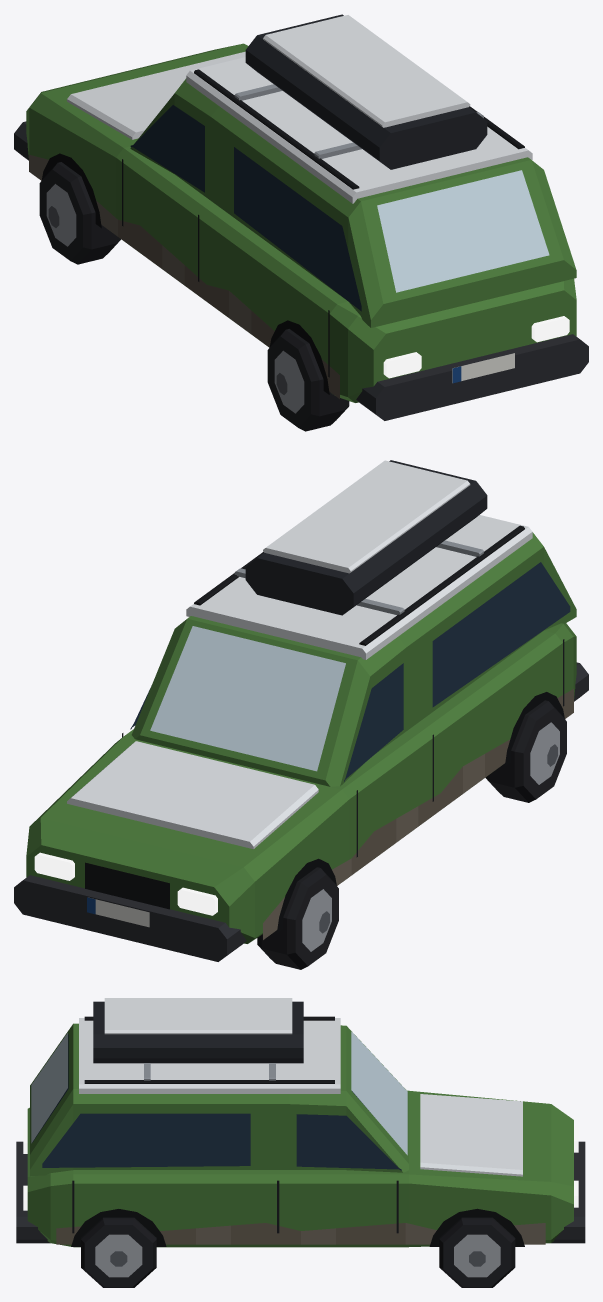
The model's file is estate_lo.glb.
3 renders of one model, top to bottom at view 1: azimuth 30°, elevation 25°; view 2: azimuth 150°, elevation 25°; view 3: azimuth 270°, elevation 25°, orthographic. The views are drawn at different scales.
Visible parts, largest first — view 1: body.003, wheel_RL.003, wheel_FL.003; view 2: body.003, wheel_FL.003, wheel_RL.003; view 3: body.003, wheel_FR.003, wheel_RR.003.
Boxes of the visible parts, x1,y1,x2,y2 form: body.003: (14,14,588,420); wheel_RL.003: (267,329,349,431); wheel_FL.003: (39,162,120,264); body.003: (14,460,588,961); wheel_FL.003: (257,867,338,969); wheel_RL.003: (485,700,566,802); body.003: (16,998,585,1247); wheel_FR.003: (439,1217,515,1287); wheel_RR.003: (81,1217,156,1287).
Size of the model in its own units: 2.16 by 2.2 by 5.05.
